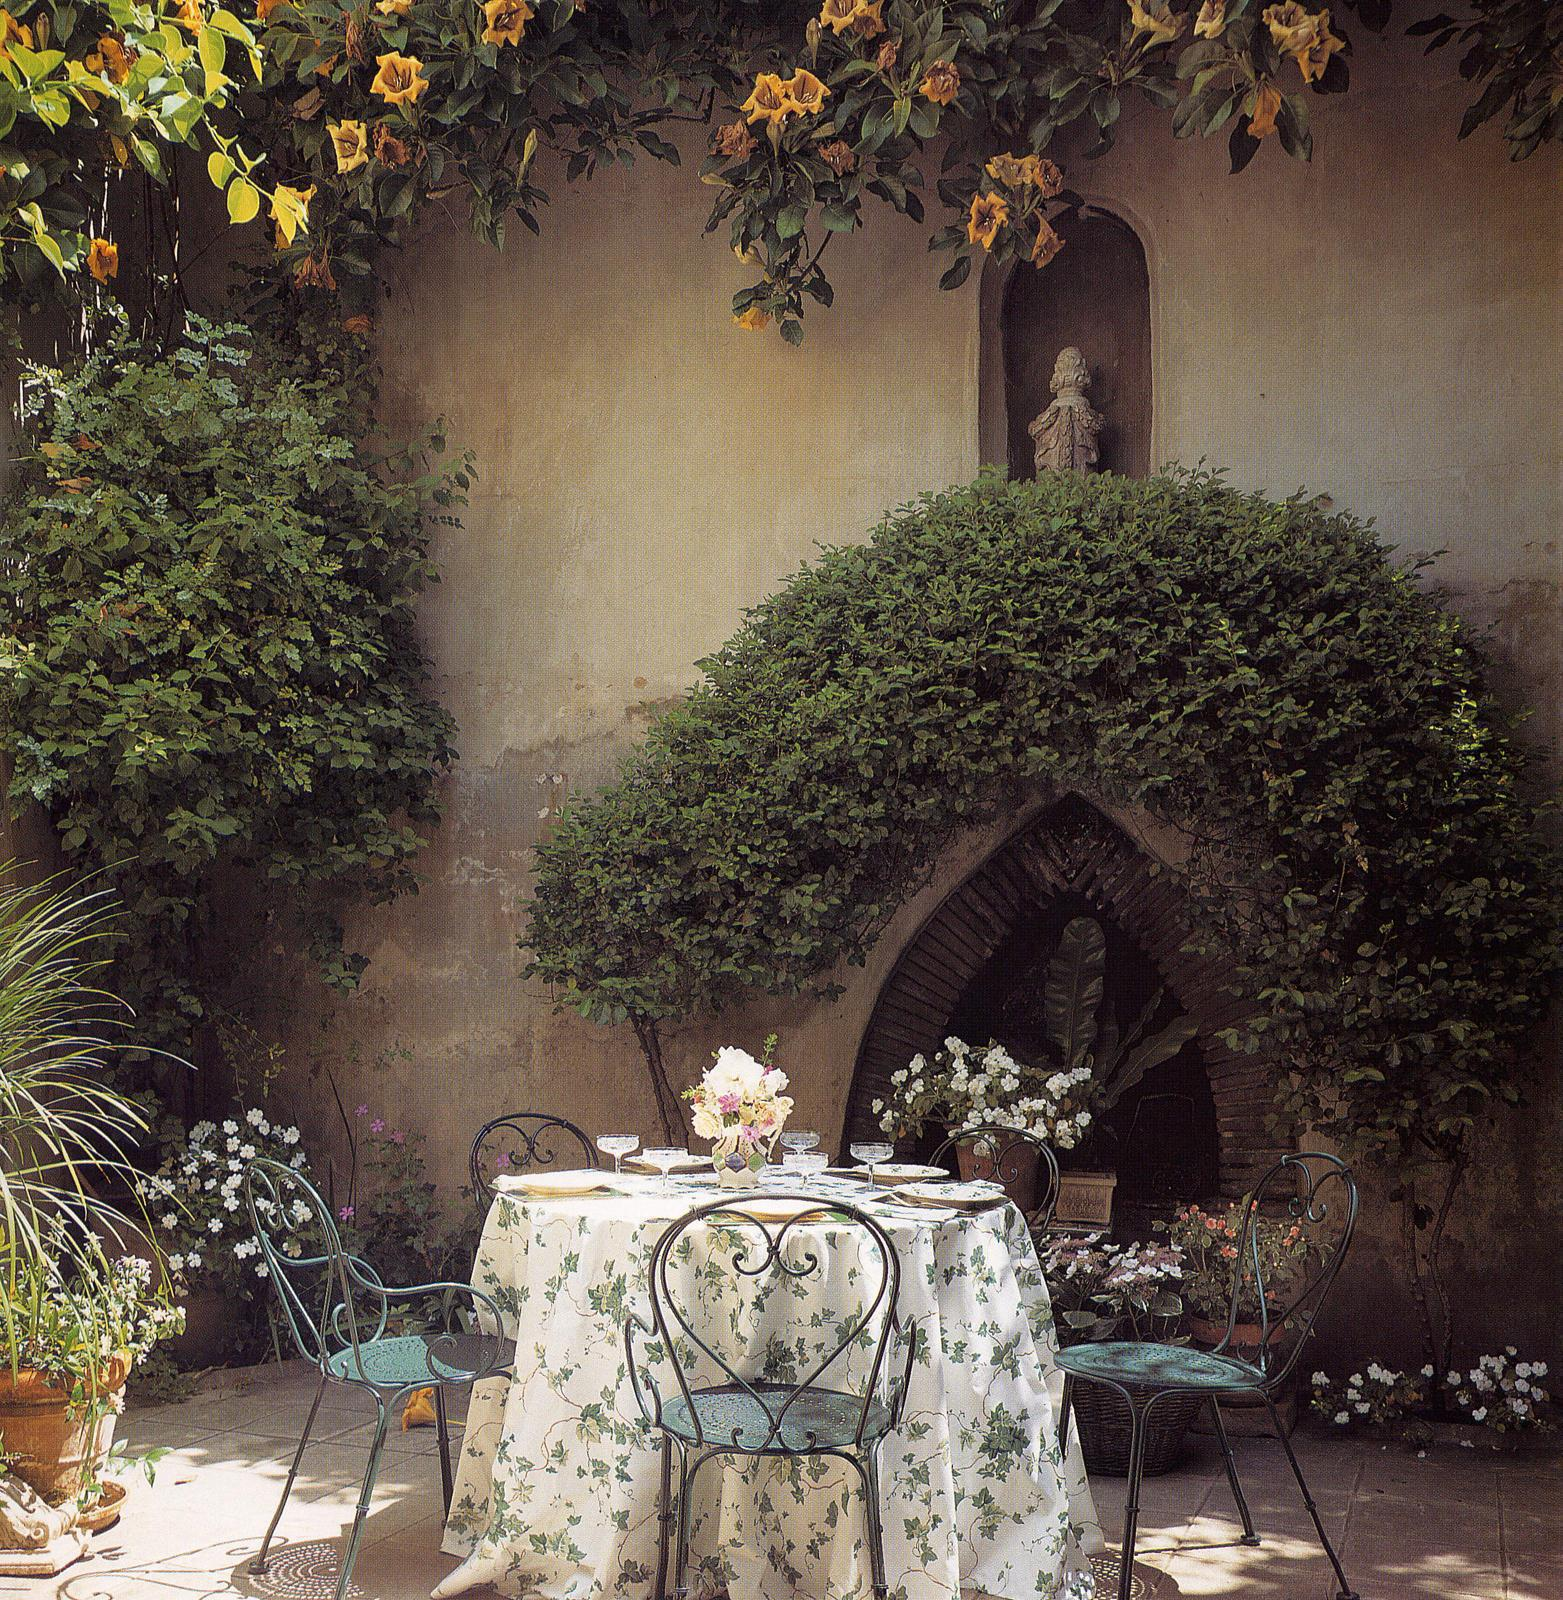Matera: (0, 952, 217, 1546), (1042, 1205, 1222, 1471), (871, 1027, 1110, 1203), (1149, 1193, 1312, 1432)
